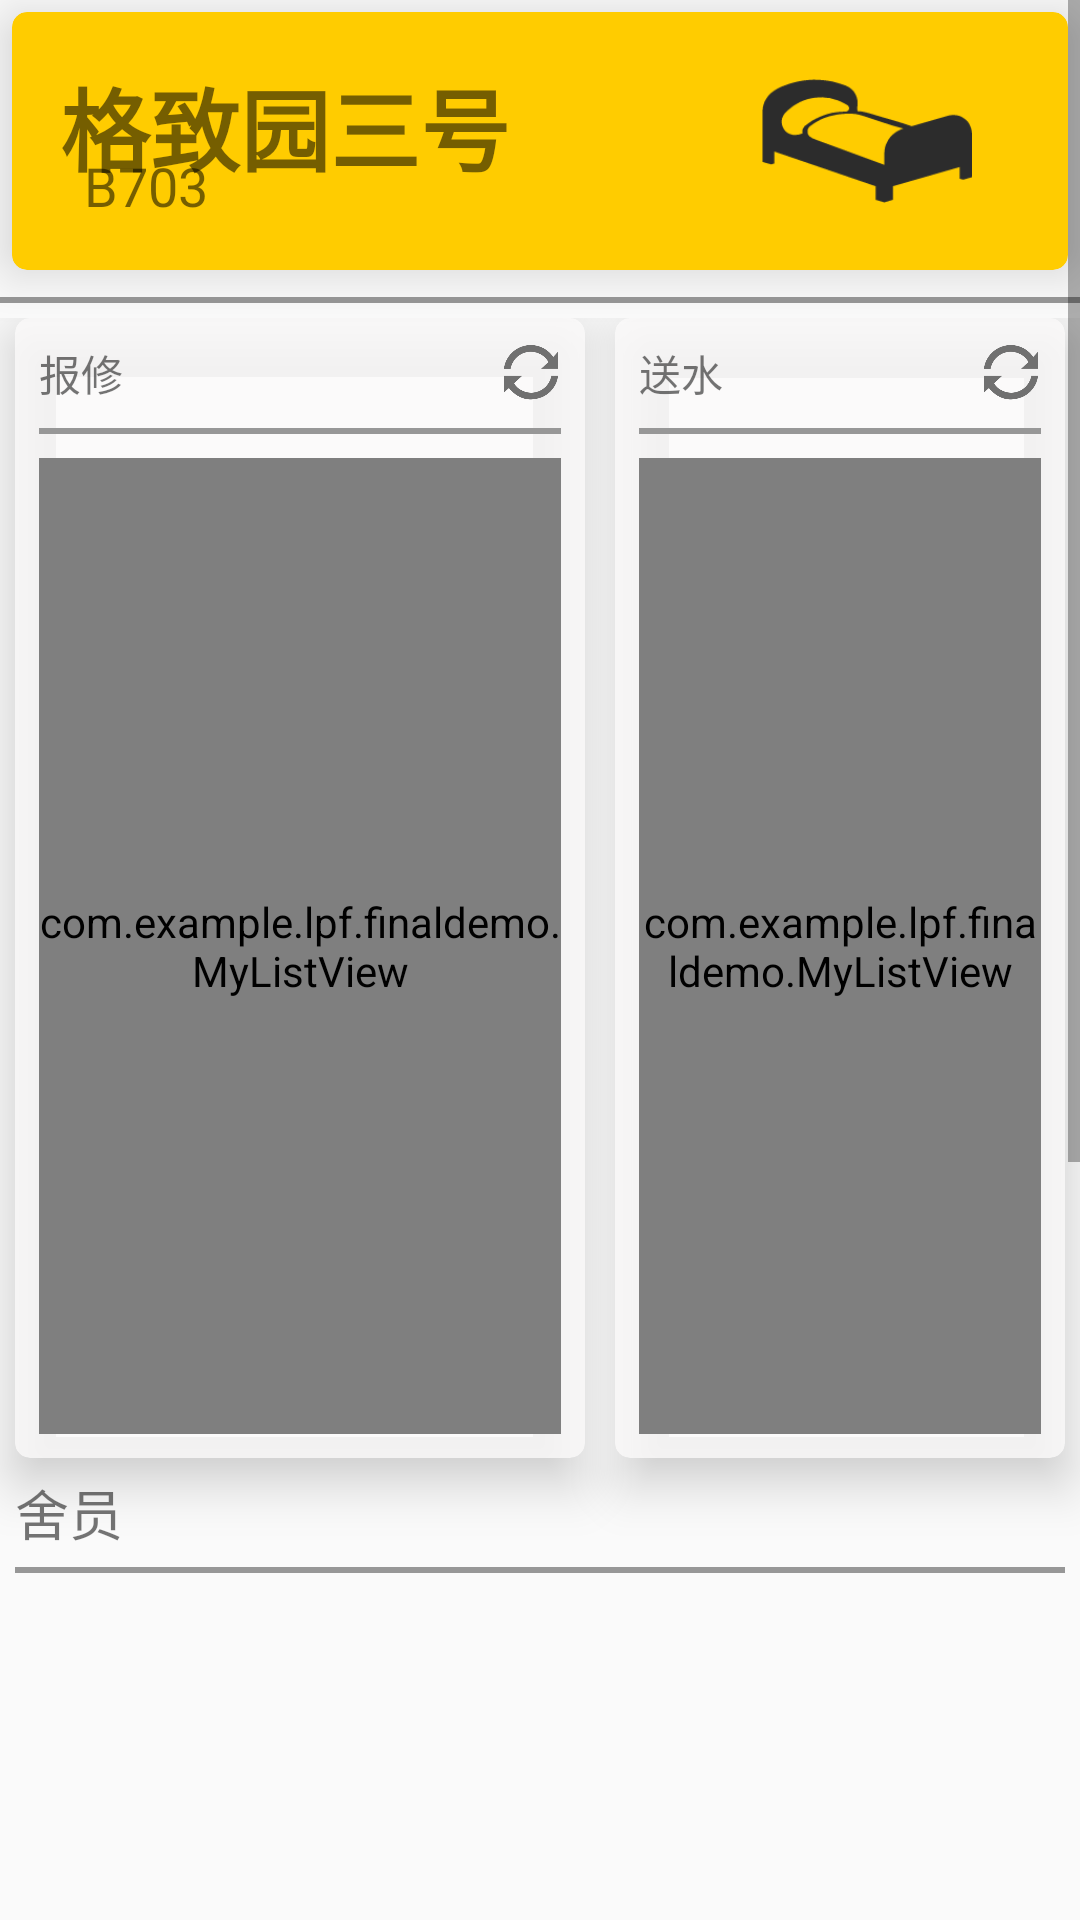

Icon click points for this 1080w x 1920h phone screenshot, format (x,y):
dormitory: (867,141)
update: (531,372), (1011,372)
